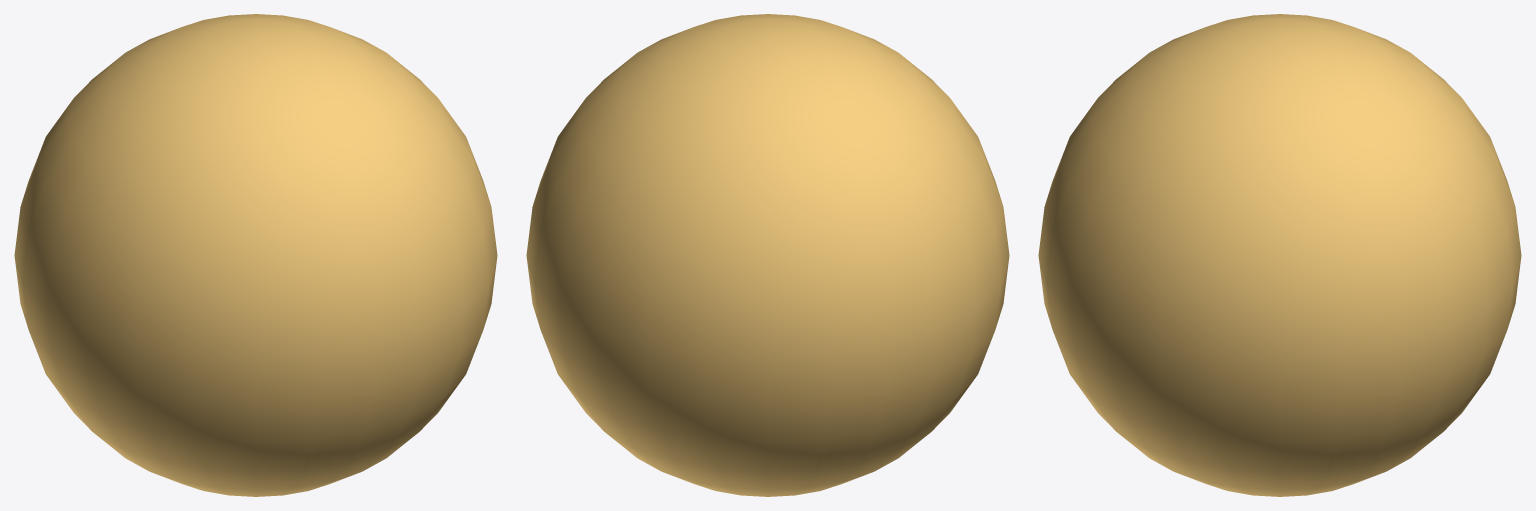
File: mat-pbr-metal.gltf
The picture shows the model from 3 angles, left to right: view 1: azimuth 30°, elevation 25°; view 2: azimuth 150°, elevation 25°; view 3: azimuth 270°, elevation 25°; orthographic projection.
Size of the model in its own units: 2 by 2 by 2.
